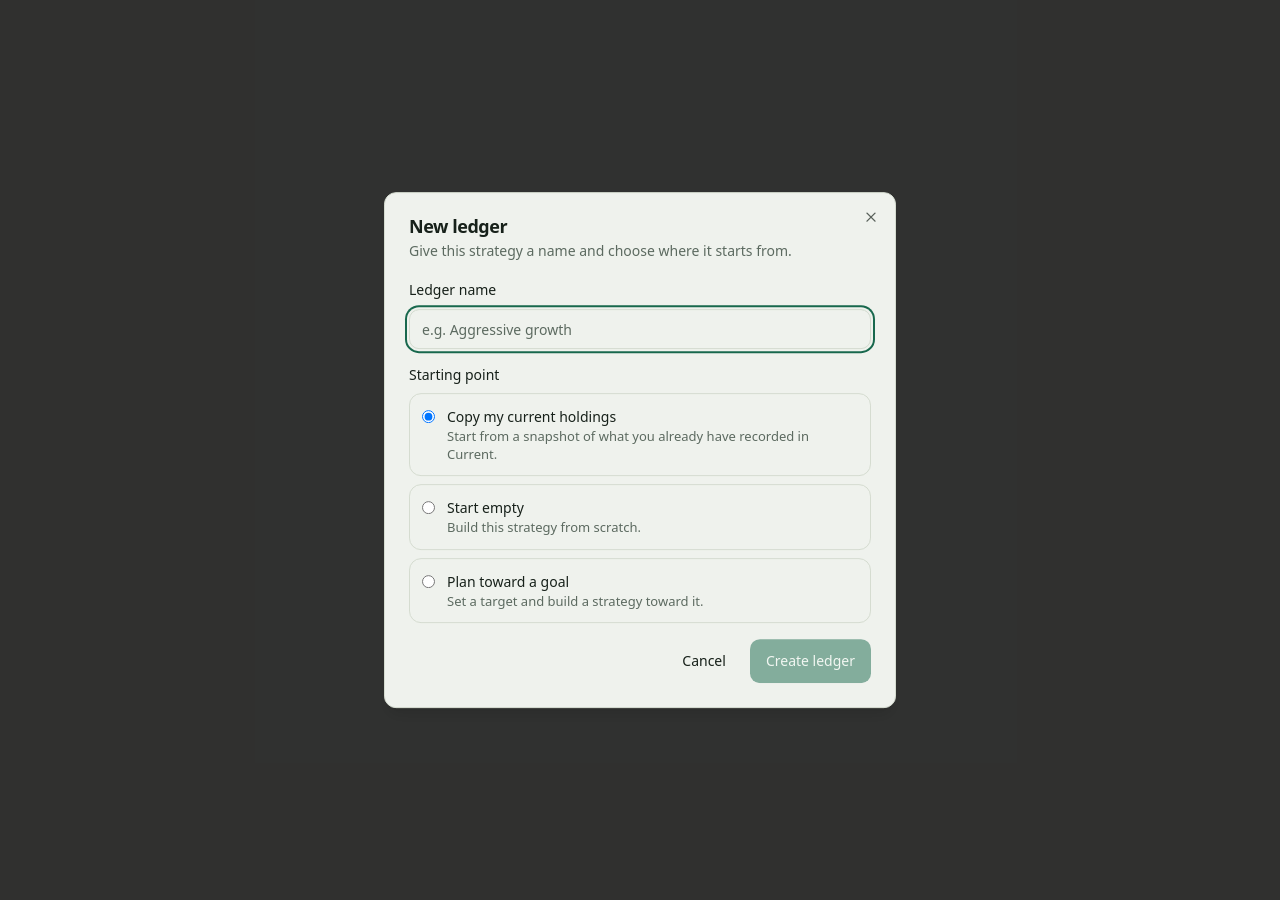
Test: goal step AI wiring — POST /api/ai-suggestions, kind: goal_plan › is impossible to reach the POST by cancelling out of consent
This screenshot has width=1280, height=900.
Click the radio button labelled "Plan toward a goal". click: x=428, y=581
box: x1=422 y1=575 x2=435 y2=588
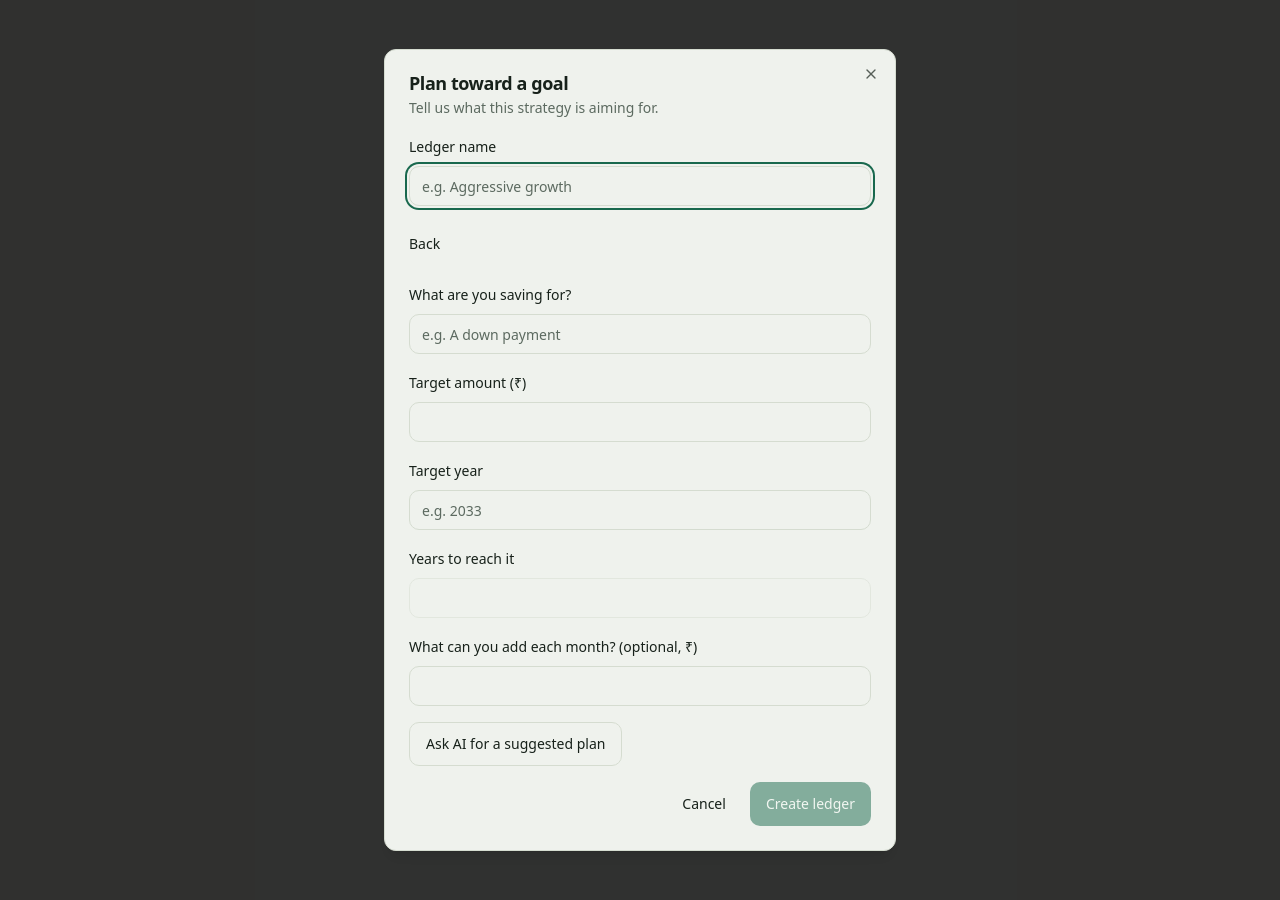
Type "Toward the house" into the field labelled "Ledger name". click: x=640, y=186
box: x1=409 y1=166 x2=871 y2=206
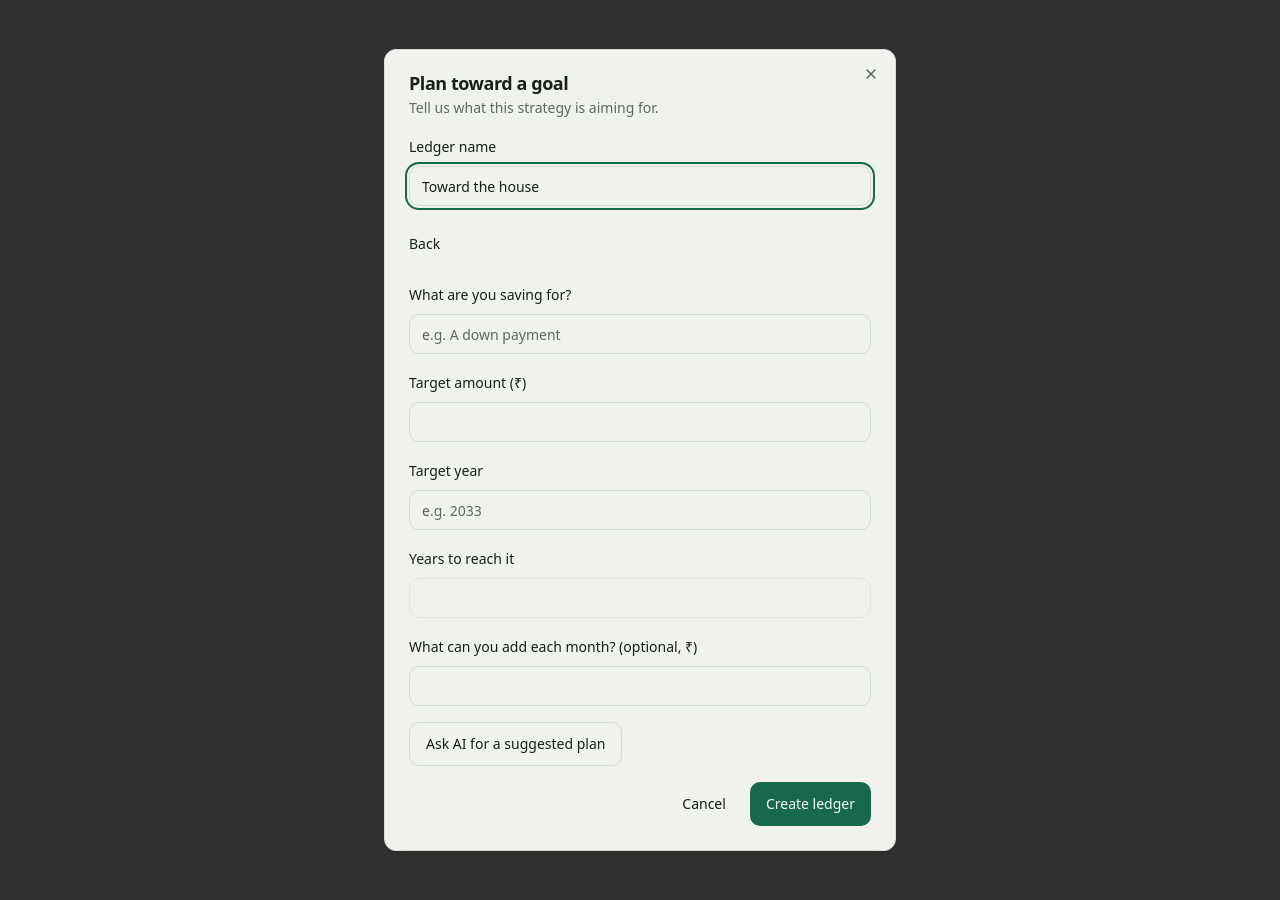
Type "A house" into the field labelled "What are you saving for?". click: x=640, y=334
box: x1=409 y1=314 x2=871 y2=354
Type "500000" into the number field labelled "Target amount (₹)". click: x=640, y=422
box: x1=409 y1=402 x2=871 y2=442
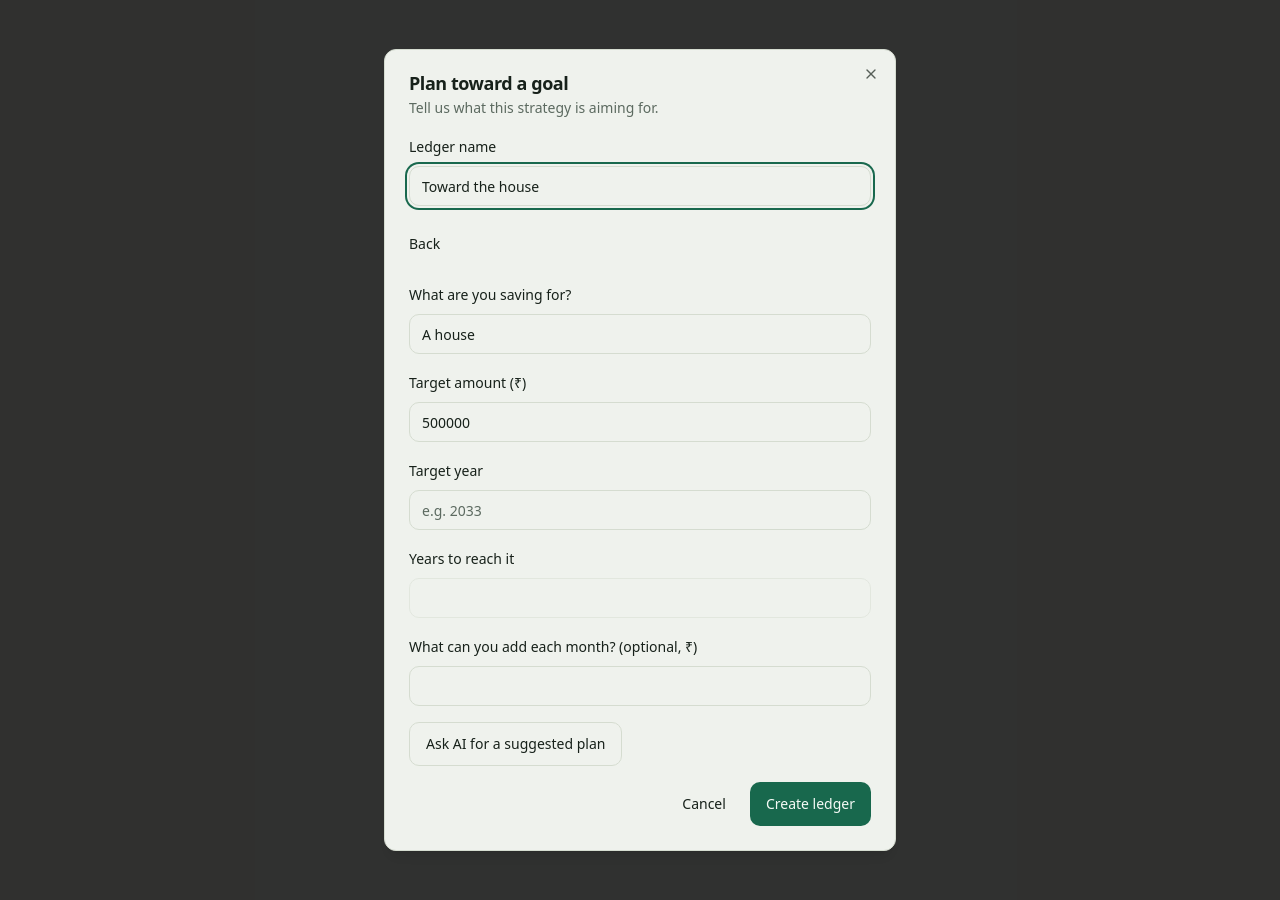
Type "2033" into the number field labelled "Target year". click: x=640, y=510
box: x1=409 y1=490 x2=871 y2=530
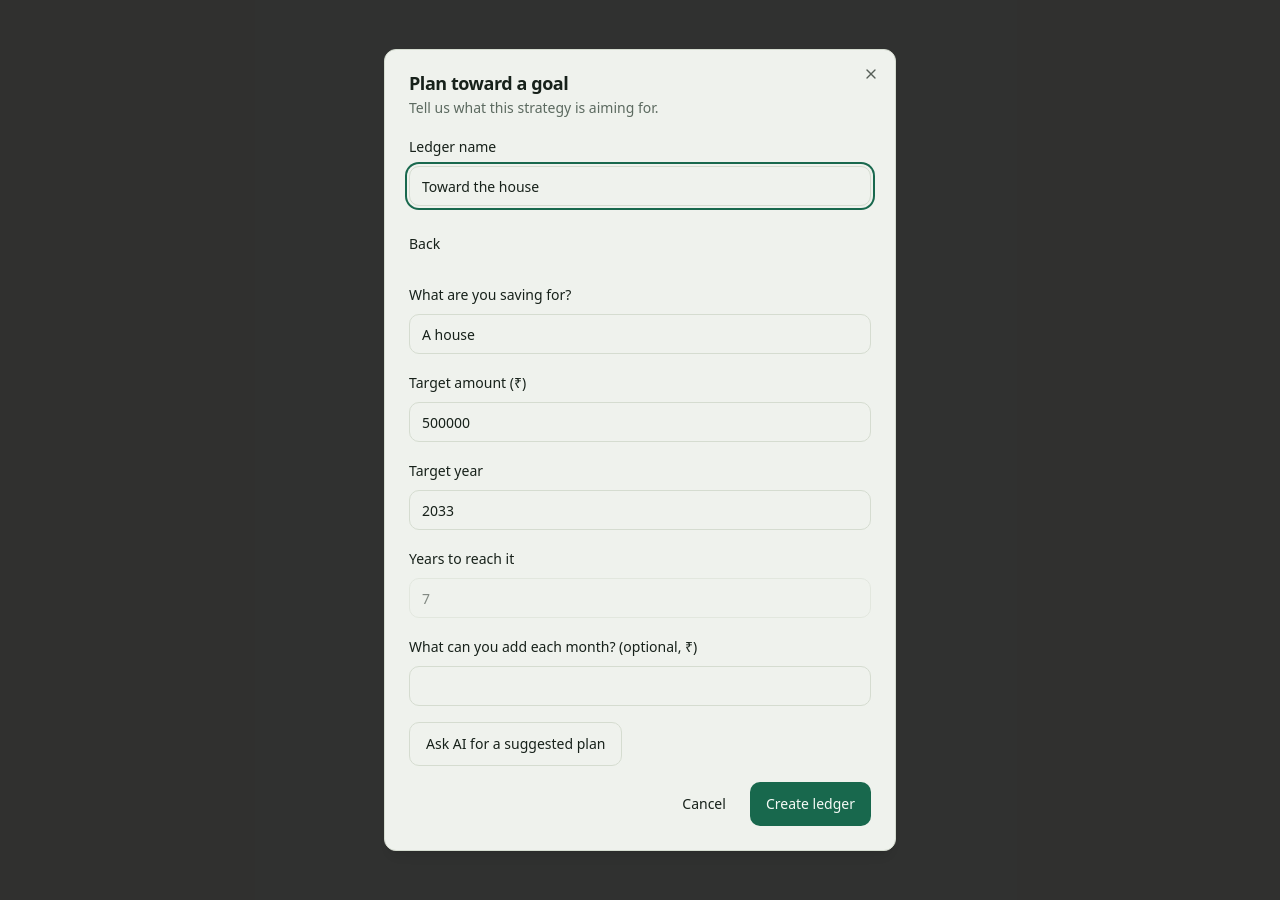
Click the button "Ask AI for a suggested plan". click: x=516, y=744
box: x1=409 y1=722 x2=622 y2=766
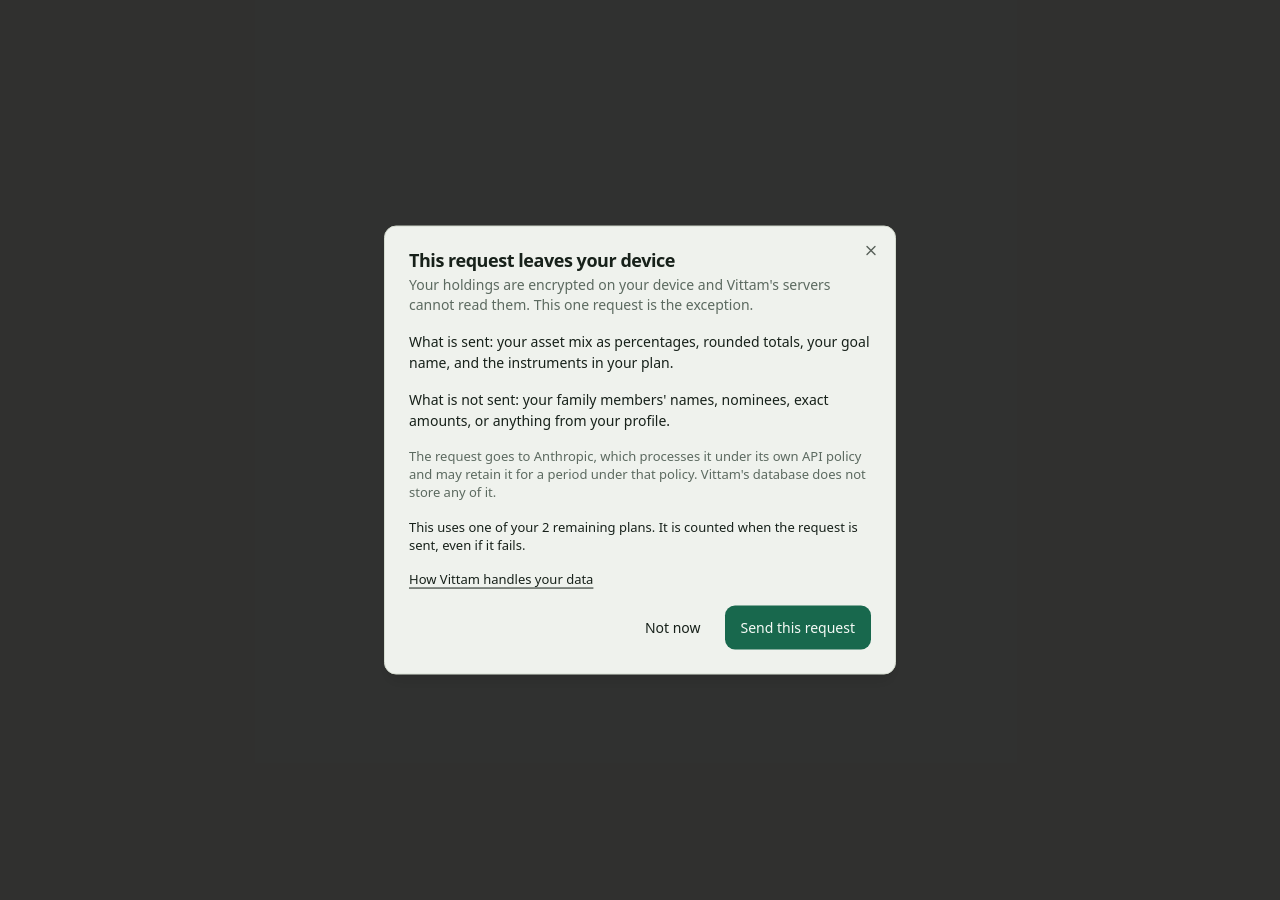
Click the button "Not now". click: x=673, y=628
box: x1=629 y1=606 x2=717 y2=650
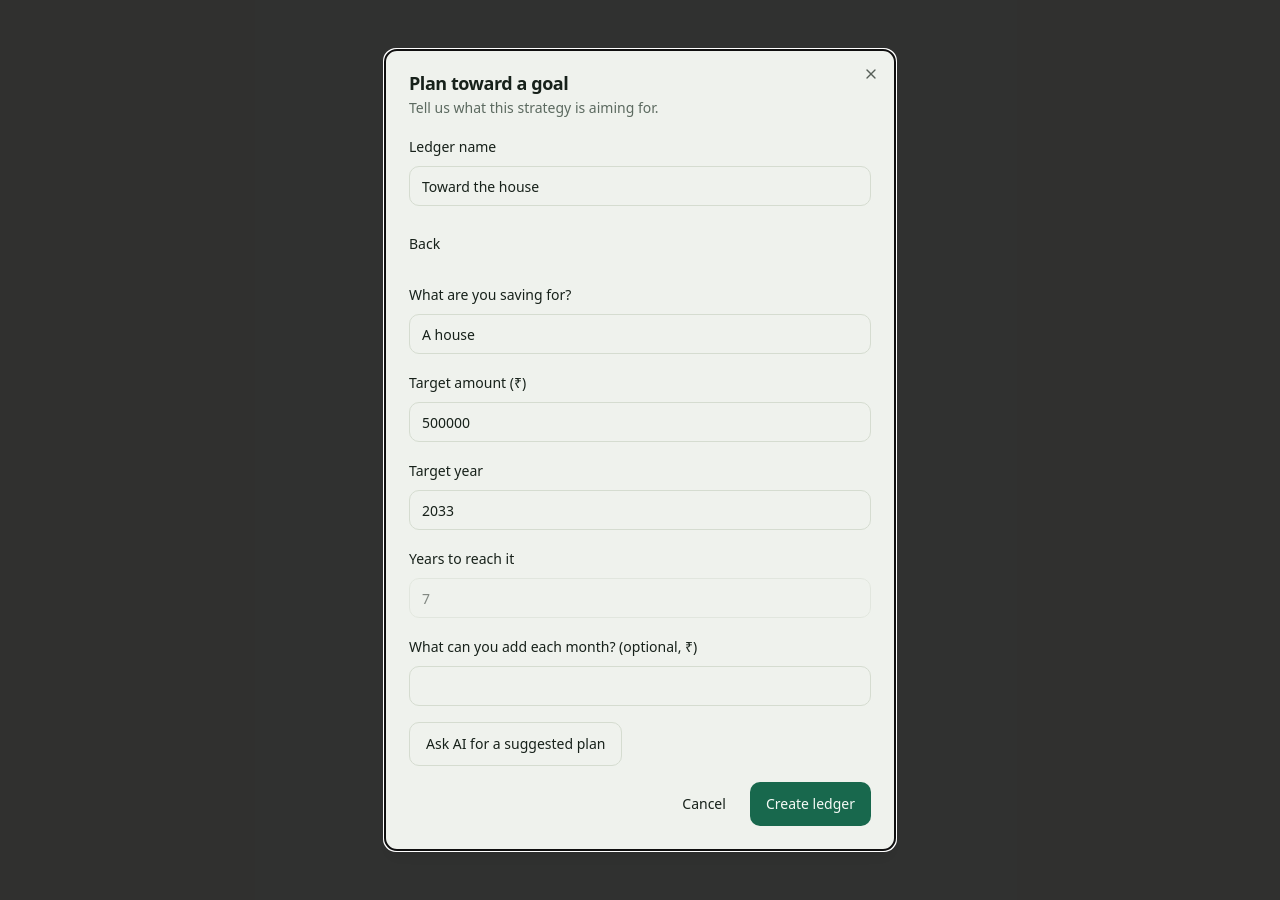
Expected: the field labelled "What are you saving for?" is shown, x1=409 y1=314 x2=871 y2=354
